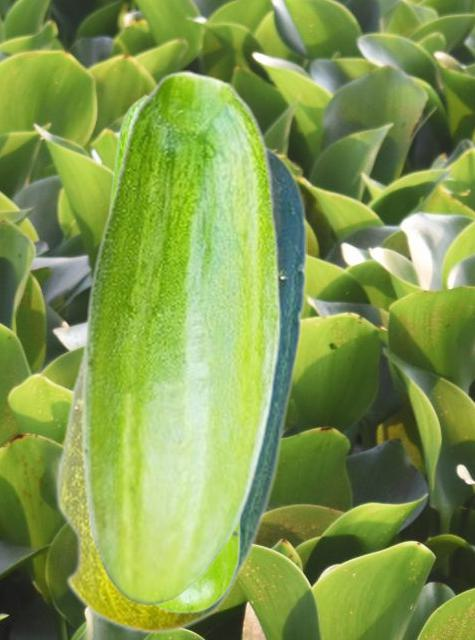cucumber: (54, 143, 306, 634), (80, 70, 280, 605), (106, 91, 240, 613)
